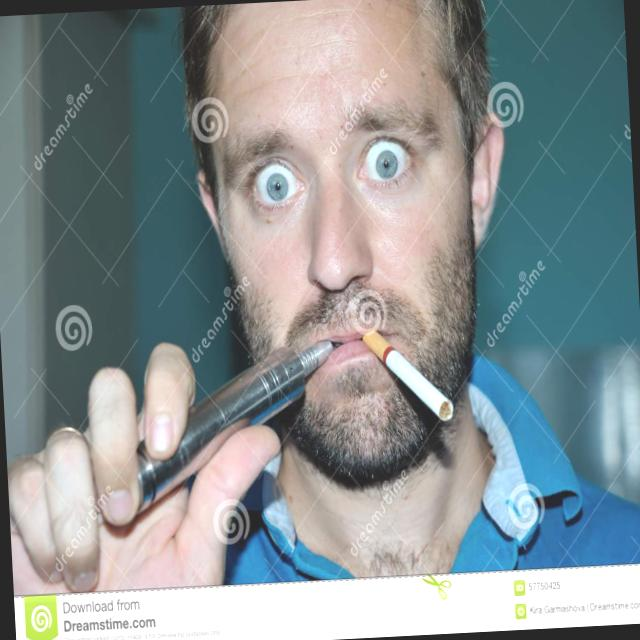smoke: (358, 304, 476, 465)
